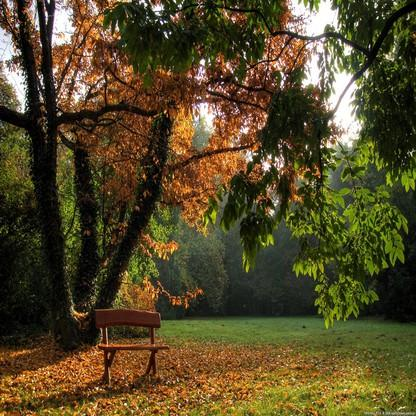obstacle: (84, 294, 176, 387)
